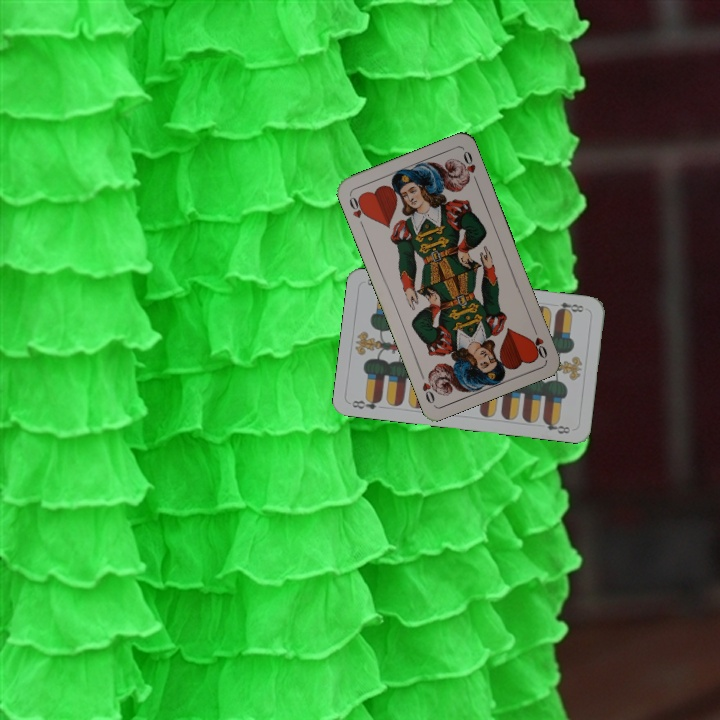E8: (348, 394, 384, 412), (552, 298, 586, 316)
HO: (345, 192, 370, 230), (528, 322, 550, 361)
